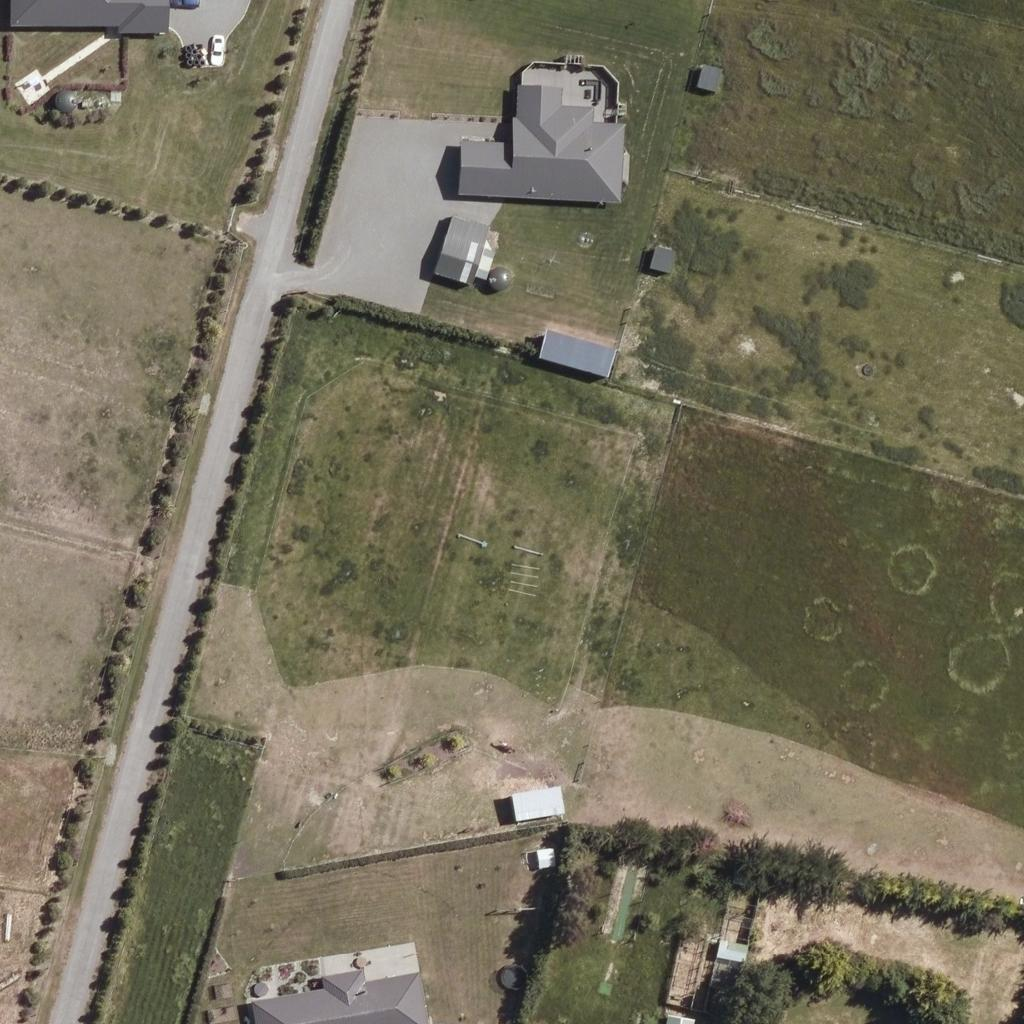car: (200, 30, 234, 64)
